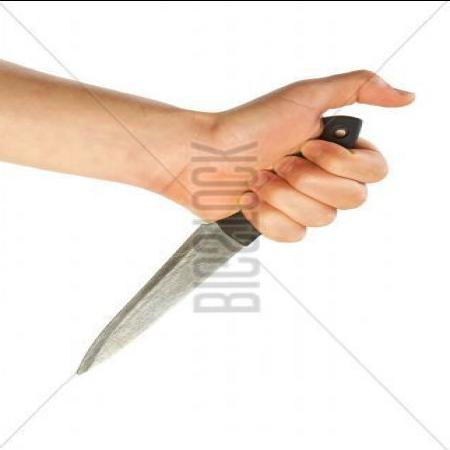long weapon: (72, 152, 344, 386)
